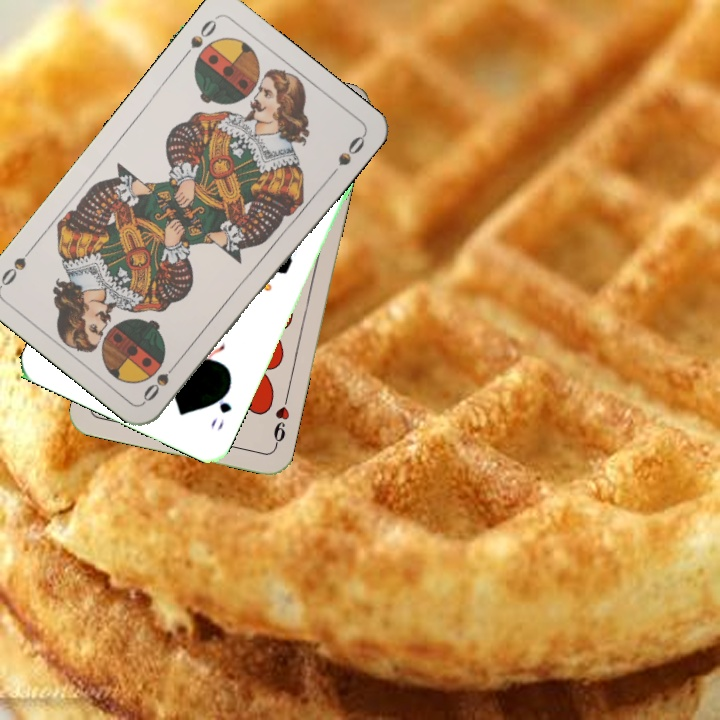GO: (206, 380, 235, 433)
H9: (269, 392, 292, 451)
SO: (139, 355, 183, 404), (178, 13, 220, 62)
